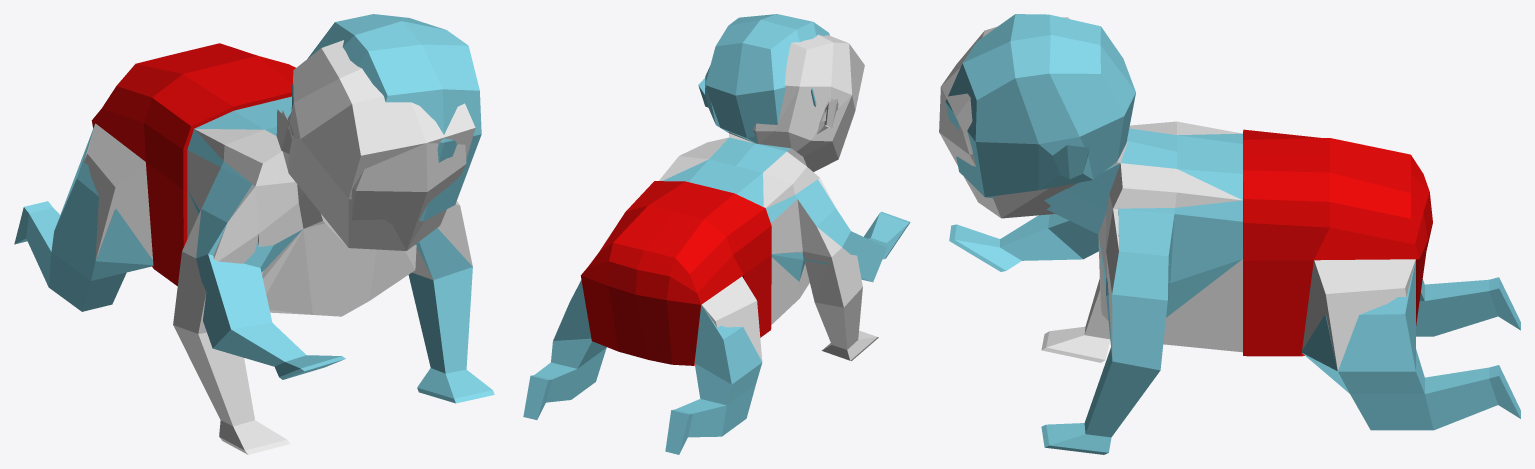
Rendered from charPaint.fbx.
3 renders of one model, left to right at view 1: azimuth 30°, elevation 25°; view 2: azimuth 150°, elevation 25°; view 3: azimuth 270°, elevation 25°, orthographic. The views are drawn at different scales.
Visible parts, largest first — view 1: Cube.001, Cube, Cube.003, Cube.002; view 2: Cube, Cube.003, Cube.001, Cube.002; view 3: Cube, Cube.003, Cube.001, Cube.002.
Boxes of the visible parts, x1,y1,x2,y2 form: Cube.001: (84, 40, 475, 454); Cube: (14, 14, 494, 403); Cube.003: (91, 43, 295, 285); Cube.002: (187, 109, 466, 333); Cube: (523, 14, 910, 454); Cube.003: (580, 181, 771, 365); Cube.001: (659, 34, 878, 361); Cube.002: (753, 85, 838, 301); Cube: (945, 14, 1520, 454); Cube.003: (1243, 129, 1432, 356); Cube.001: (941, 17, 1415, 370); Cube.002: (939, 87, 977, 201).
Bounding box in the file's own units: 347 × 487 × 673.
